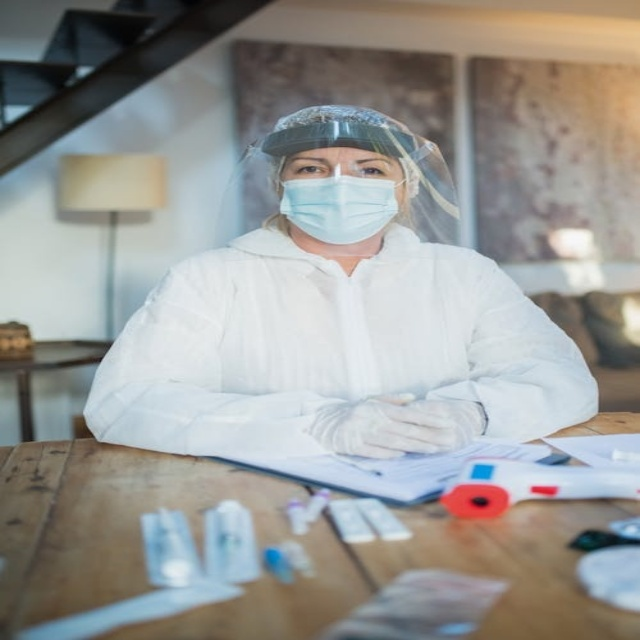Guantes: (312, 395, 479, 459)
Mascara: (277, 169, 402, 243)
Sin_gafas: (280, 158, 401, 178)
